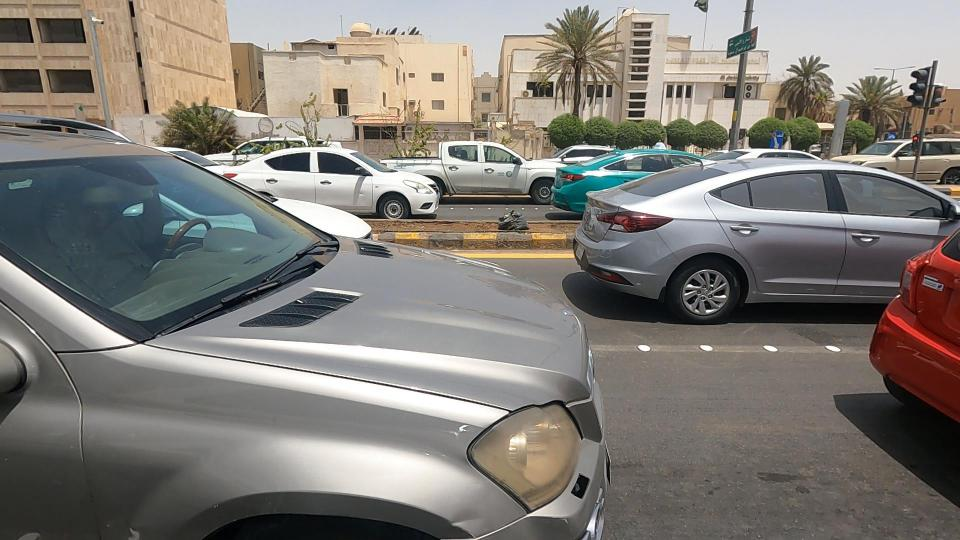GARBAGE: (463, 182, 552, 258)
